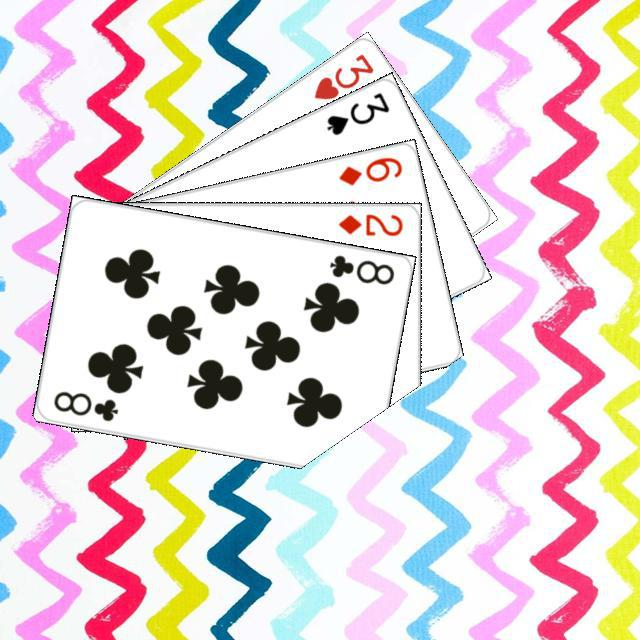2d: (333, 209, 404, 237)
3h: (309, 48, 376, 102)
3s: (321, 87, 391, 138)
6d: (333, 152, 404, 188)
8c: (324, 250, 396, 287), (48, 386, 120, 423)
